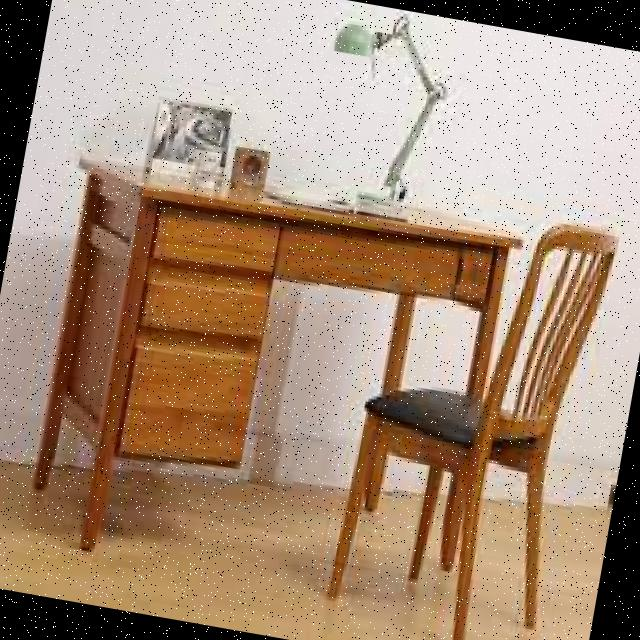Table: (0, 130, 537, 629)
